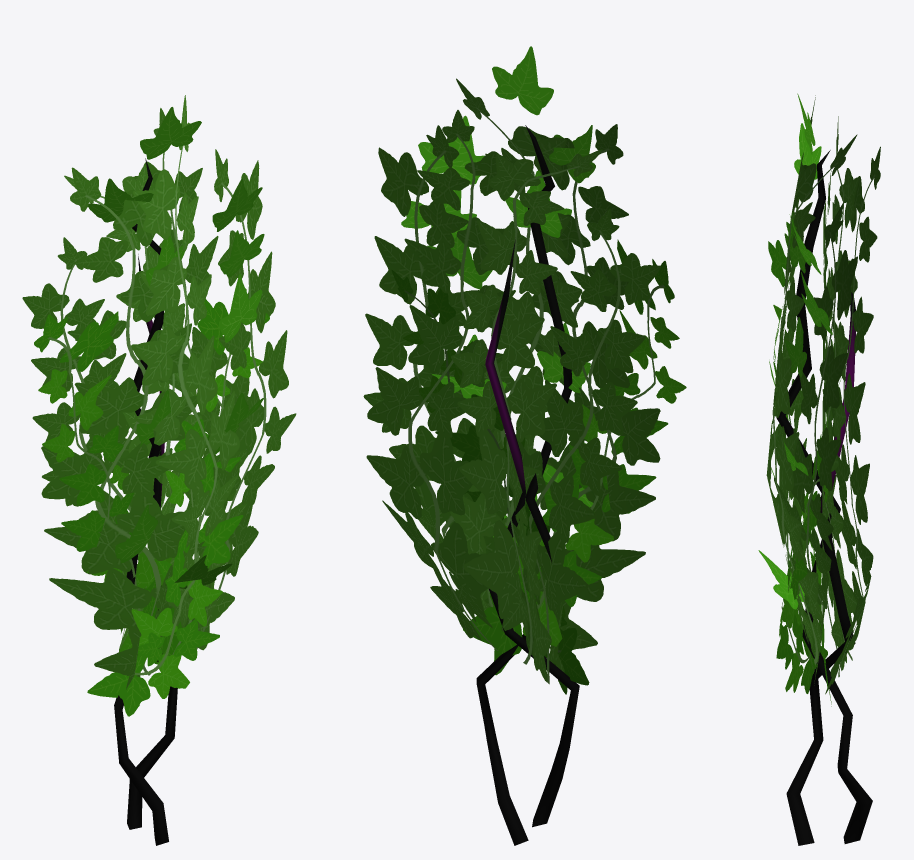
File: PT_Ivy_03.fbx
3 renders of one model, left to right at view 1: azimuth 30°, elevation 25°; view 2: azimuth 150°, elevation 25°; view 3: azimuth 270°, elevation 25°, orthographic. The views are drawn at different scales.
Visible parts, largest first — view 1: PT_Ivy_03; view 2: PT_Ivy_03; view 3: PT_Ivy_03.
Boxes of the visible parts, bbox=[...] form: PT_Ivy_03: bbox=[22, 95, 296, 845]; PT_Ivy_03: bbox=[363, 46, 686, 845]; PT_Ivy_03: bbox=[758, 93, 880, 845].
Size of the model in its own units: 103 by 253 by 47.23.
